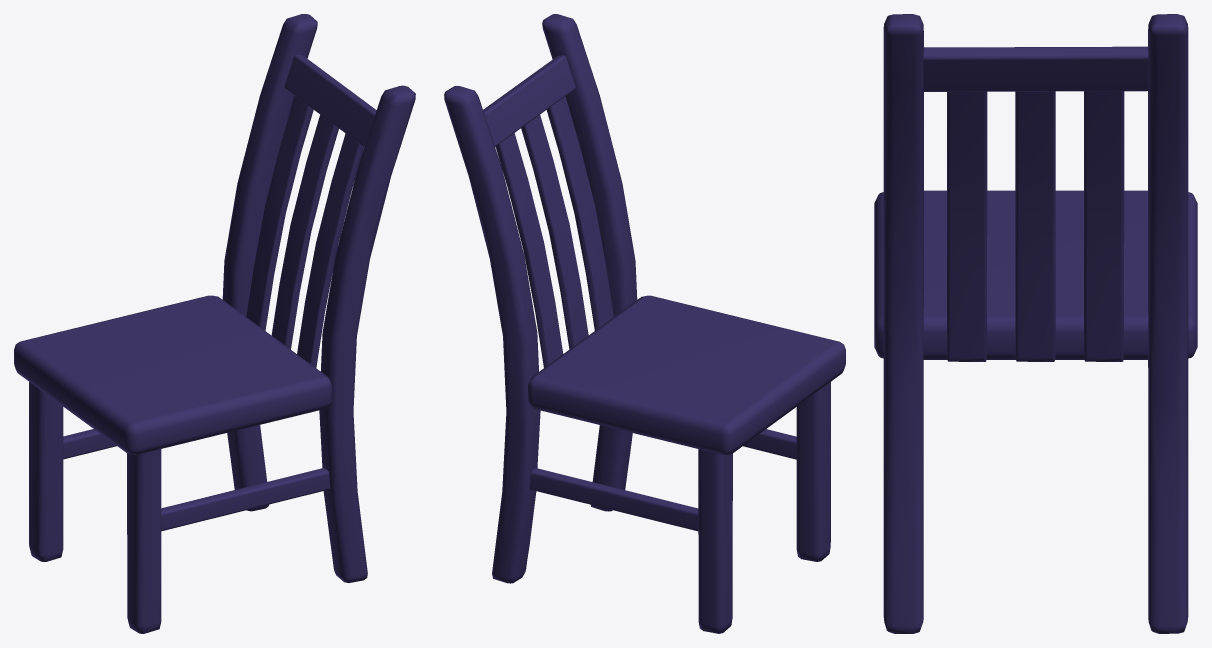
The model's file is chair_04_purple.fbx.
3 renders of one model, left to right at view 1: azimuth 30°, elevation 25°; view 2: azimuth 150°, elevation 25°; view 3: azimuth 270°, elevation 25°, orthographic. The views are drawn at different scales.
Parts seen in each view (by area): view 1: chair_04_purple; view 2: chair_04_purple; view 3: chair_04_purple.
Part boxes in pixels (x1,y1,x2,y2): chair_04_purple: (14, 14, 415, 633); chair_04_purple: (444, 14, 845, 633); chair_04_purple: (874, 14, 1197, 633).
Bounding box in the file's own units: 67.91 × 106 × 48.29.
1 material, 1 textured.
